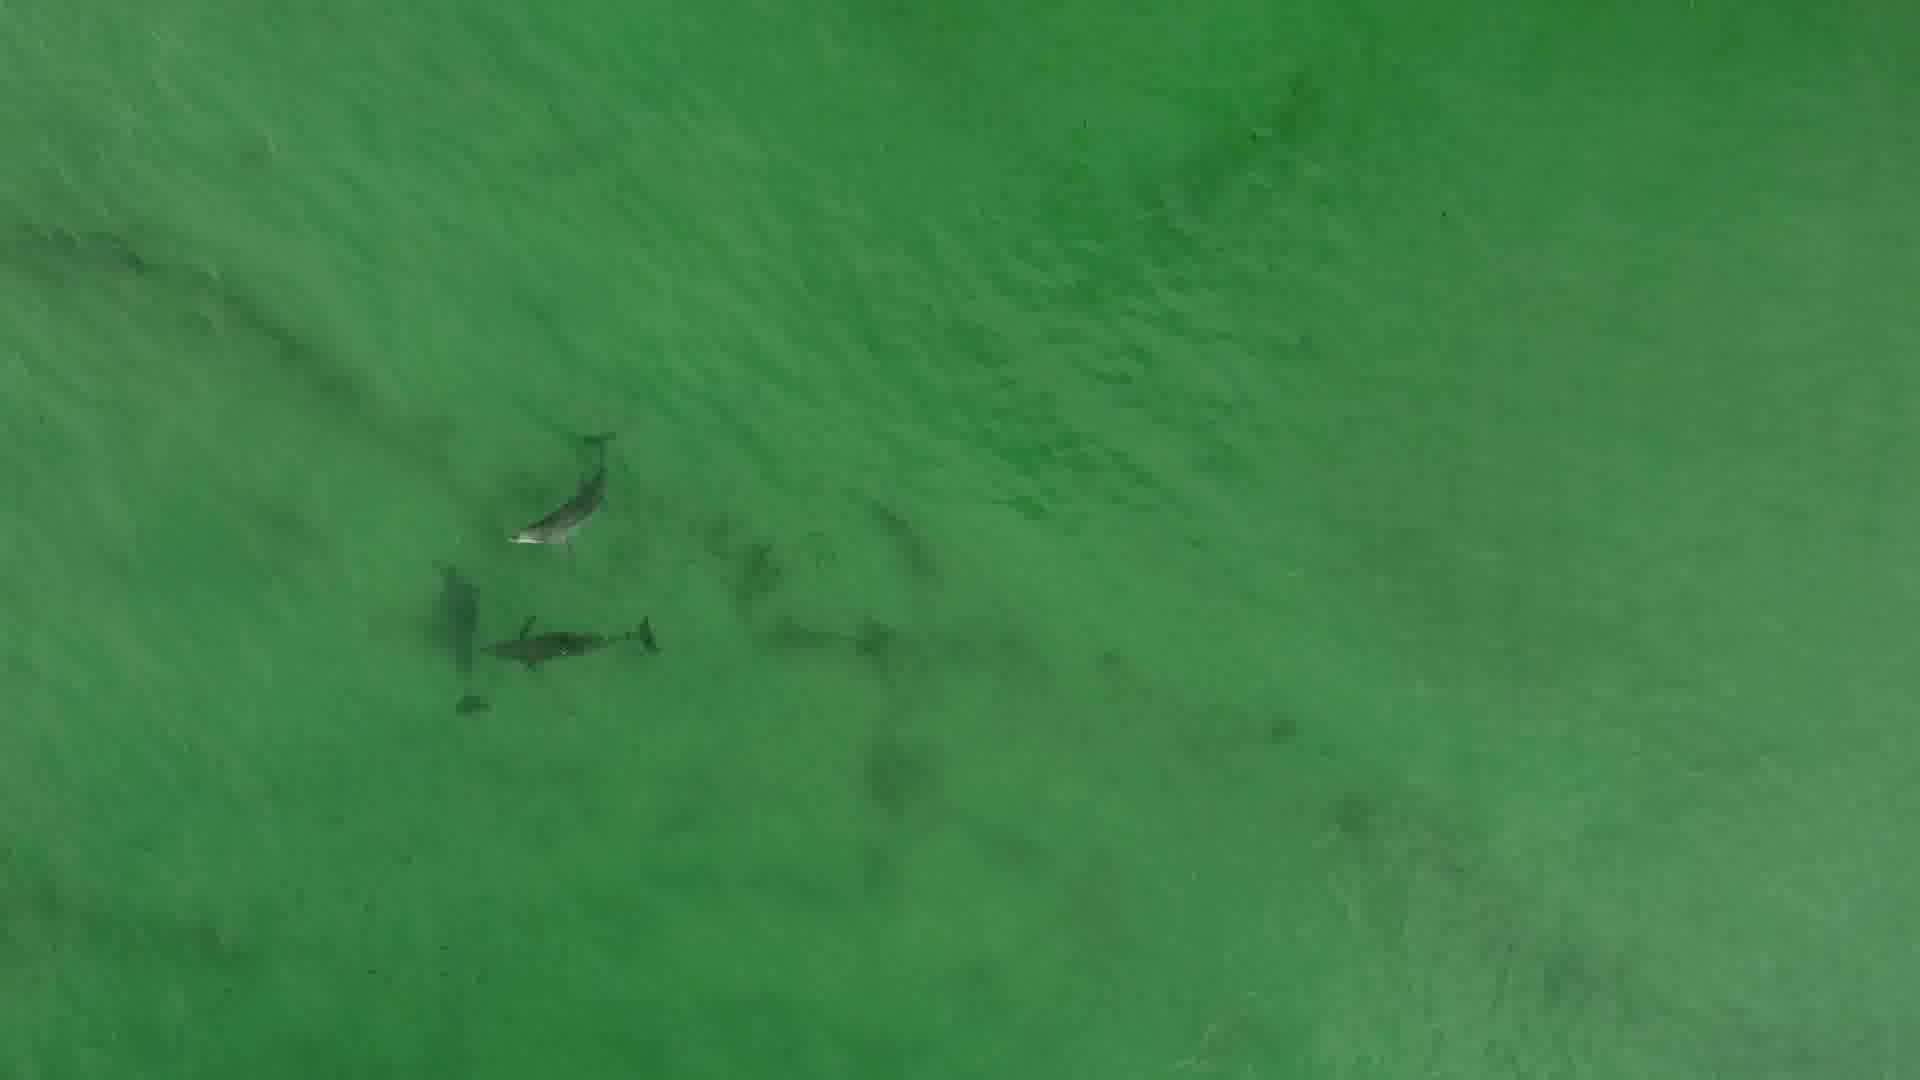dolphin: (481, 394, 642, 560), (467, 572, 676, 688), (417, 549, 502, 735)
